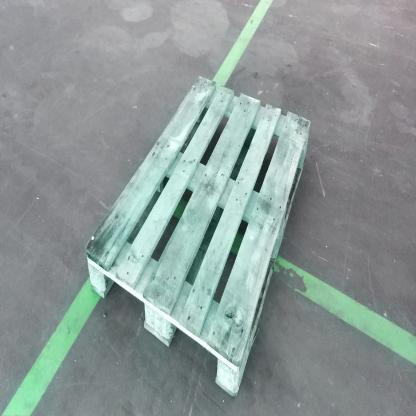BoxFace: (84, 73, 311, 403)
